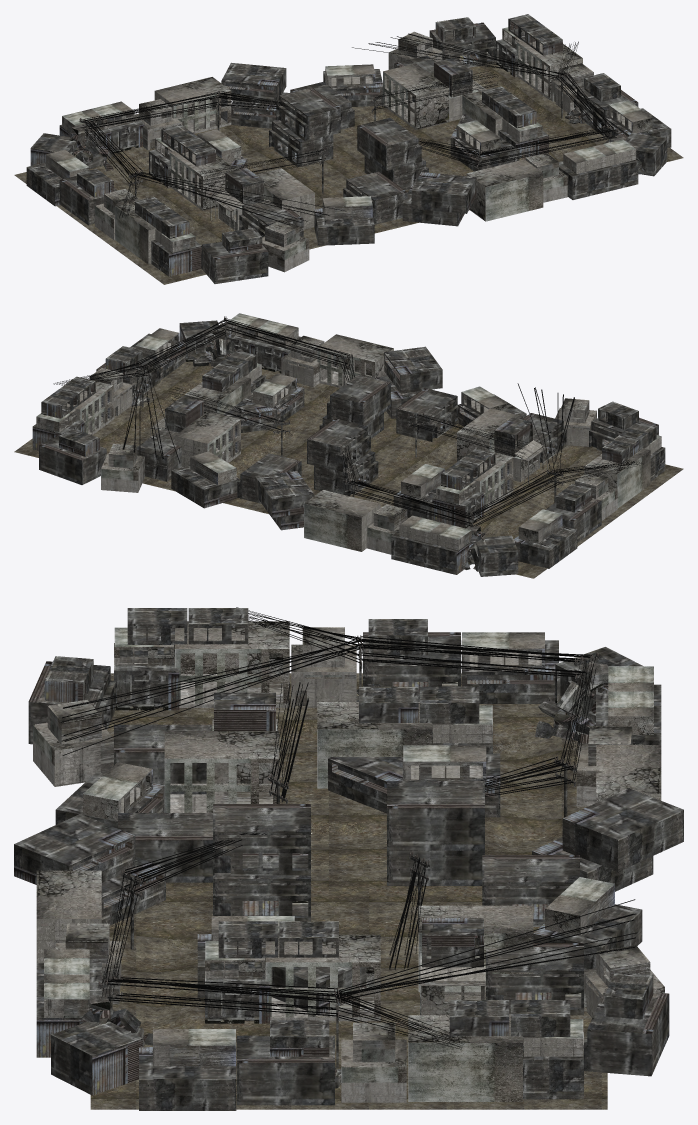
Rendered from street_enhanced.glb.
3 views of the same model, one above another, from view 1: azimuth 30°, elevation 25°; view 2: azimuth 150°, elevation 25°; view 3: azimuth 270°, elevation 25° (orthographic). The views are drawn at different scales.
Parts seen in each view (by area): view 1: Plane.002_Material.007_0_W, Plane.002_Material.007_0_E, Cube.039_Material.001_0_E, Cube.032_Material.001_0_E, Cube.039_Material.001_0_W, Cube.022_Material.002_0_W, Cube.022_Material.002_0_E, Cube.041_Material.003_0_E, Cube.026_Material.001_0_W, Cube.041_Material.003_0_W, Cube.042_Material.002_0_W, Cube.014_Material.002_0_W (+73 smaller); view 2: Plane.002_Material.007_0_W, Plane.002_Material.007_0_E, Cube.039_Material.001_0_W, Cube.039_Material.001_0_E, Cube.022_Material.002_0_W, Cube.032_Material.001_0_E, Cube.014_Material.002_0_W, Cube.022_Material.002_0_E, Cube.041_Material.003_0_E, Cube.041_Material.003_0_W, Cube_Material.001_0_W, Cube.042_Material.002_0_E (+73 smaller); view 3: Plane.002_Material.007_0_E, Plane.002_Material.007_0_W, Cube_Material.001_0_E, Cube_Material.001_0_W, Cube.032_Material.001_0_W, Cube.041_Material.003_0_W, Cube.022_Material.002_0_W, Cube.026_Material.001_0_E, Cube.022_Material.002_0_E, Cube.041_Material.003_0_E, Cube.007_Material.002_0_E, Cube.031_Material.002_0_E (+76 smaller).
Part boxes in pixels (x1,y1,x2,y2): Plane.002_Material.007_0_W: (14, 125, 418, 284); Plane.002_Material.007_0_E: (333, 63, 683, 210); Cube.039_Material.001_0_E: (466, 159, 543, 221); Cube.032_Material.001_0_E: (383, 63, 449, 129); Cube.039_Material.001_0_W: (154, 77, 231, 133); Cube.022_Material.002_0_W: (276, 87, 340, 141); Cube.022_Material.002_0_E: (357, 118, 421, 170); Cube.041_Material.003_0_E: (411, 172, 476, 213); Cube.026_Material.001_0_W: (169, 151, 235, 210); Cube.041_Material.003_0_W: (221, 62, 286, 104); Cube.042_Material.002_0_W: (201, 241, 268, 283); Cube.014_Material.002_0_W: (343, 171, 407, 224); Plane.002_Material.007_0_W: (311, 423, 683, 578); Plane.002_Material.007_0_E: (14, 361, 396, 513); Cube.039_Material.001_0_W: (304, 490, 380, 551); Cube.039_Material.001_0_E: (317, 334, 393, 387); Cube.022_Material.002_0_W: (307, 418, 370, 471); Cube.032_Material.001_0_E: (175, 411, 240, 466); Cube.014_Material.002_0_W: (396, 388, 458, 441); Cube.022_Material.002_0_E: (327, 374, 390, 425); Cube.041_Material.003_0_E: (384, 346, 442, 393); Cube.041_Material.003_0_W: (255, 471, 313, 517); Cube_Material.001_0_W: (584, 448, 650, 508); Cube.042_Material.002_0_E: (39, 433, 106, 484); Plane.002_Material.007_0_E: (90, 891, 607, 1109); Plane.002_Material.007_0_W: (107, 673, 587, 891); Cube_Material.001_0_E: (408, 1015, 522, 1101); Cube_Material.001_0_W: (175, 621, 289, 707); Cube.032_Material.001_0_W: (164, 731, 279, 812); Cube.041_Material.003_0_W: (562, 788, 683, 871); Cube.022_Material.002_0_W: (387, 781, 484, 850); Cube.026_Material.001_0_E: (265, 934, 380, 1021); Cube.022_Material.002_0_E: (213, 804, 310, 875); Cube.041_Material.003_0_E: (14, 814, 135, 884); Cube.007_Material.002_0_E: (237, 1035, 334, 1105); Cube.031_Material.002_0_E: (486, 943, 583, 1015).
Bounding box in the file's own units: 31.99 × 3.32 × 20.54.
5 materials, 4 textured.
